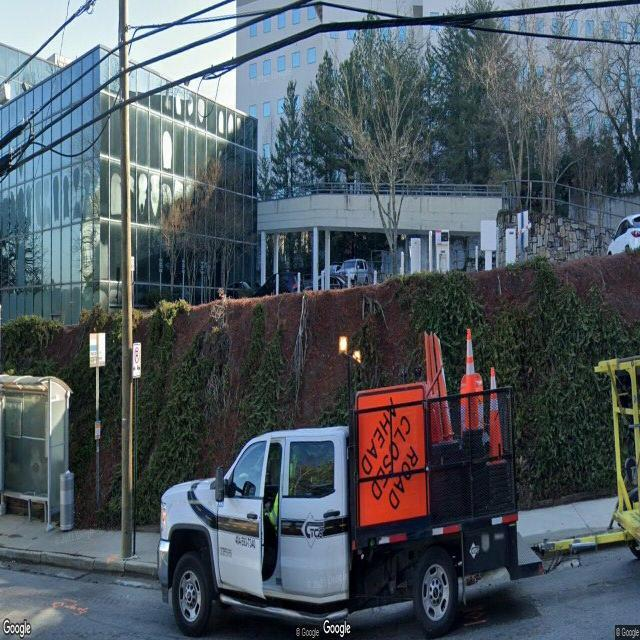seating: (18, 492, 48, 524)
shelter: (0, 373, 69, 528)
trash_can: (61, 469, 75, 532)
